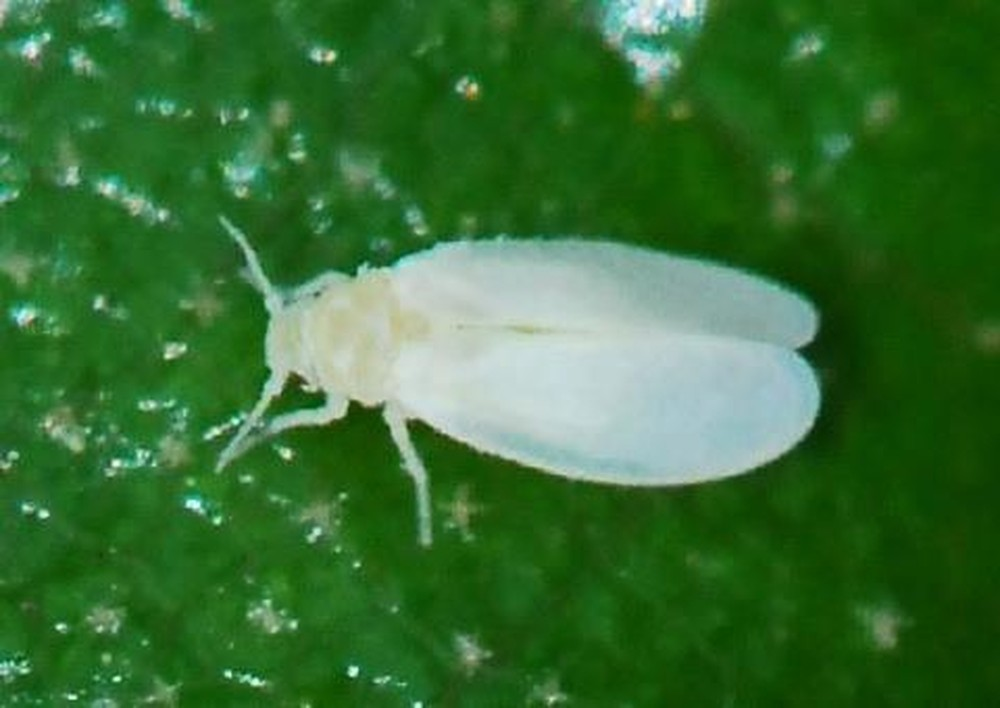Mosca Blanca: (193, 205, 844, 541)
